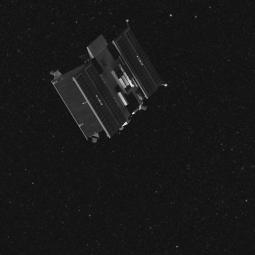proba_2: (38, 15, 172, 150)
